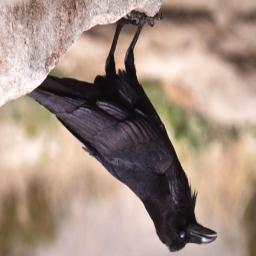Crow: (24, 15, 220, 256)
